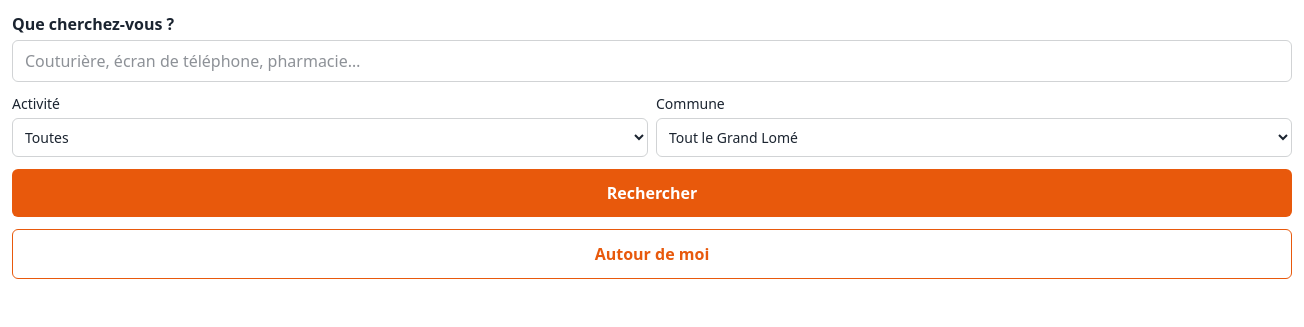
Test: SearchForm › asks for something to look for instead of an empty search
Click the button "Rechercher" at (652, 193), box [12, 169, 1292, 217]
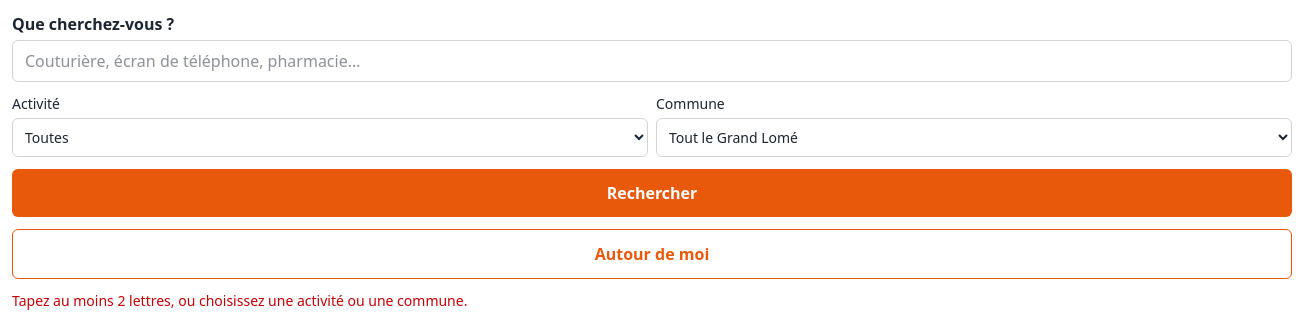
Check: the message shows "2 lettres", box [12, 291, 467, 310]
